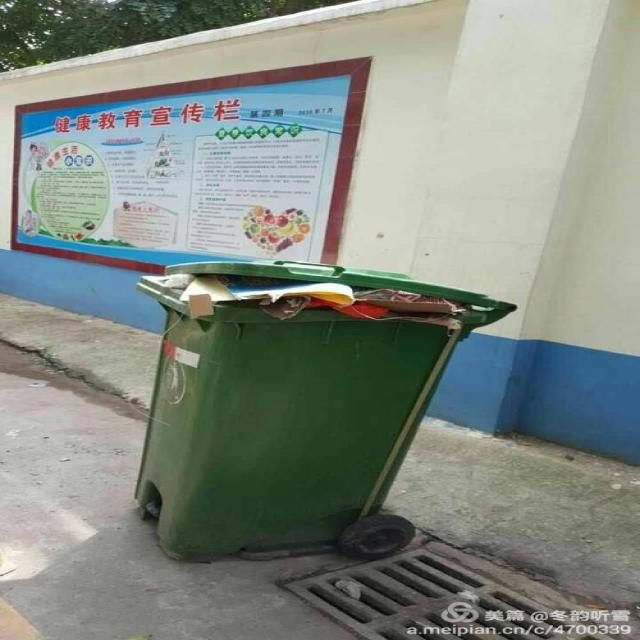overflow: (132, 259, 517, 563)
